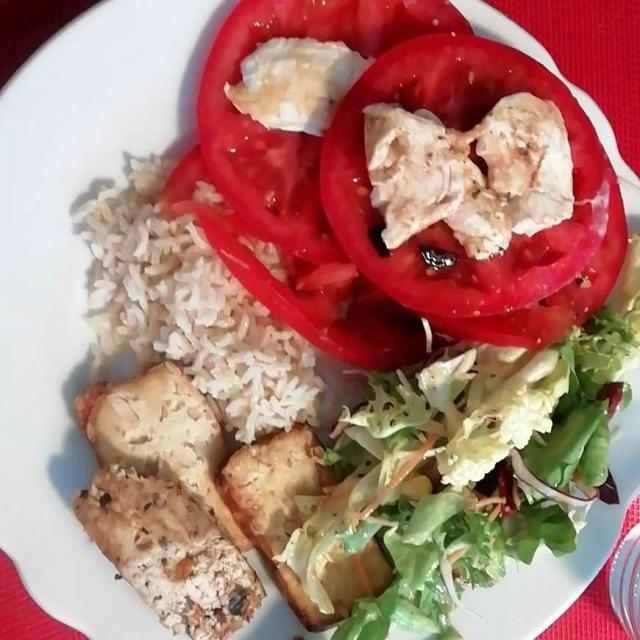cheese: (234, 40, 567, 243)
rice: (82, 158, 324, 429)
salad: (304, 325, 628, 634)
tofu: (72, 362, 392, 635)
tomato: (173, 3, 639, 376)
